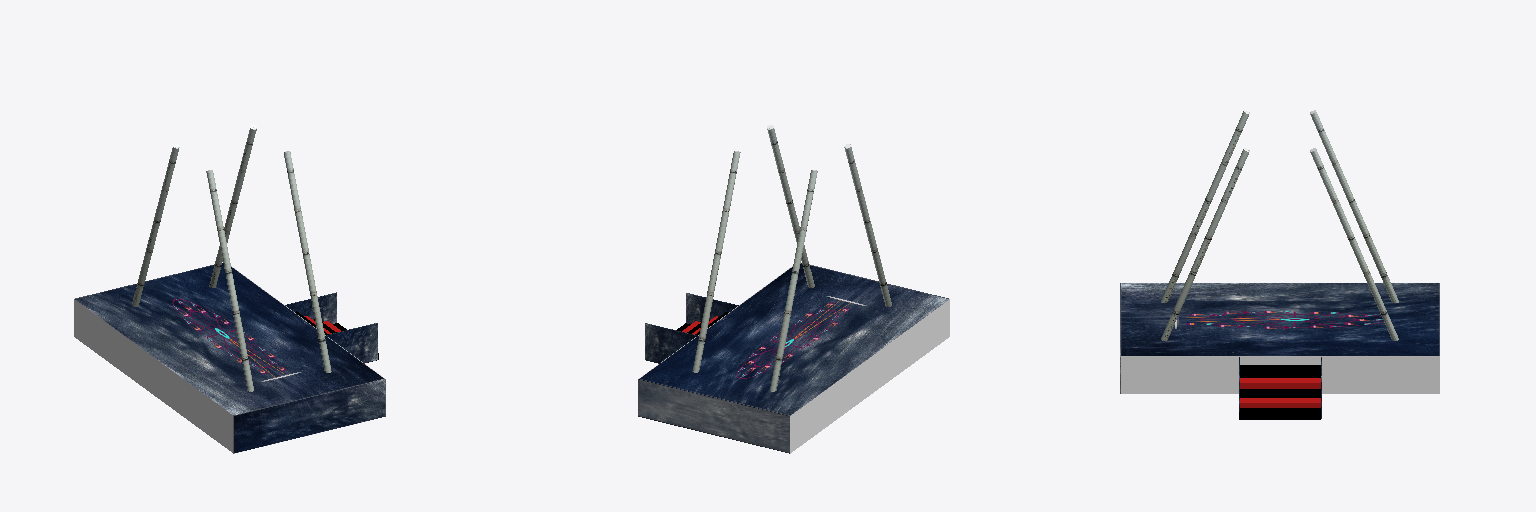
3 views of the same model, side by side, from view 1: azimuth 30°, elevation 25°; view 2: azimuth 150°, elevation 25°; view 3: azimuth 270°, elevation 25° (orthographic).
Visible parts, largest first — view 1: pCube1, pasted__pasted__pCylinder1 pasted__group group31, group31 pasted__pasted__pasted__pCylinder1 pasted__pasted__group, pasted__pCube2 group17, pasted__pasted__pCylinder1 pasted__group group30, pasted__pCylinder1 group, pCube2; view 2: pCube1, pasted__pCylinder1 group, pasted__pasted__pCylinder1 pasted__group group30, pCube2, pasted__pasted__pCylinder1 pasted__group group31, group31 pasted__pasted__pasted__pCylinder1 pasted__pasted__group, pasted__pCube2 group17; view 3: pCube1, pasted__pCylinder1 group, pasted__pasted__pCylinder1 pasted__group group30, group31 pasted__pasted__pasted__pCylinder1 pasted__pasted__group, pasted__pasted__pCylinder1 pasted__group group31, pasted__pCube1 group12, pasted__pasted__pasted__pasted__pasted__pCube1 pasted__pasted__p, pasted__pasted__pCube1 pasted__group12 group13, pasted__pasted__pasted__pasted__pCube1 pasted__pasted__pasted__g, pasted__pasted__pasted__pCube1 pasted__pasted__group12 pasted__g.
Boxes of the visible parts, x1=… form: pCube1: x1=74, y1=263, x2=385, y2=453; pasted__pasted__pCylinder1 pasted__group group31: x1=206, y1=170, x2=253, y2=391; group31 pasted__pasted__pasted__pCylinder1 pasted__pasted__group: x1=284, y1=151, x2=331, y2=372; pasted__pCube2 group17: x1=326, y1=323, x2=377, y2=362; pasted__pasted__pCylinder1 pasted__group group30: x1=132, y1=144, x2=179, y2=306; pasted__pCylinder1 group: x1=209, y1=125, x2=256, y2=287; pCube2: x1=285, y1=292, x2=336, y2=323; pCube1: x1=638, y1=263, x2=949, y2=453; pasted__pCylinder1 group: x1=692, y1=151, x2=740, y2=372; pasted__pasted__pCylinder1 pasted__group group30: x1=770, y1=170, x2=817, y2=391; pCube2: x1=645, y1=323, x2=696, y2=363; pasted__pasted__pCylinder1 pasted__group group31: x1=844, y1=144, x2=891, y2=306; group31 pasted__pasted__pasted__pCylinder1 pasted__pasted__group: x1=767, y1=125, x2=814, y2=287; pasted__pCube2 group17: x1=686, y1=293, x2=738, y2=323; pCube1: x1=1120, y1=283, x2=1439, y2=393; pasted__pCylinder1 group: x1=1310, y1=148, x2=1398, y2=340; pasted__pasted__pCylinder1 pasted__group group30: x1=1310, y1=110, x2=1398, y2=302; group31 pasted__pasted__pasted__pCylinder1 pasted__pasted__group: x1=1161, y1=148, x2=1249, y2=340; pasted__pasted__pCylinder1 pasted__group group31: x1=1161, y1=110, x2=1249, y2=302; pasted__pCube1 group12: x1=1240, y1=365, x2=1320, y2=377; pasted__pasted__pasted__pasted__pasted__pCube1 pasted__pasted__p: x1=1239, y1=408, x2=1320, y2=419; pasted__pasted__pCube1 pasted__group12 group13: x1=1240, y1=378, x2=1320, y2=388; pasted__pasted__pasted__pasted__pCube1 pasted__pasted__pasted__g: x1=1240, y1=398, x2=1320, y2=407; pasted__pasted__pasted__pCube1 pasted__pasted__group12 pasted__g: x1=1240, y1=389, x2=1320, y2=397.
Size of the model in its own units: 6.35 by 6.78 by 8.61.
8 materials, 4 textured.